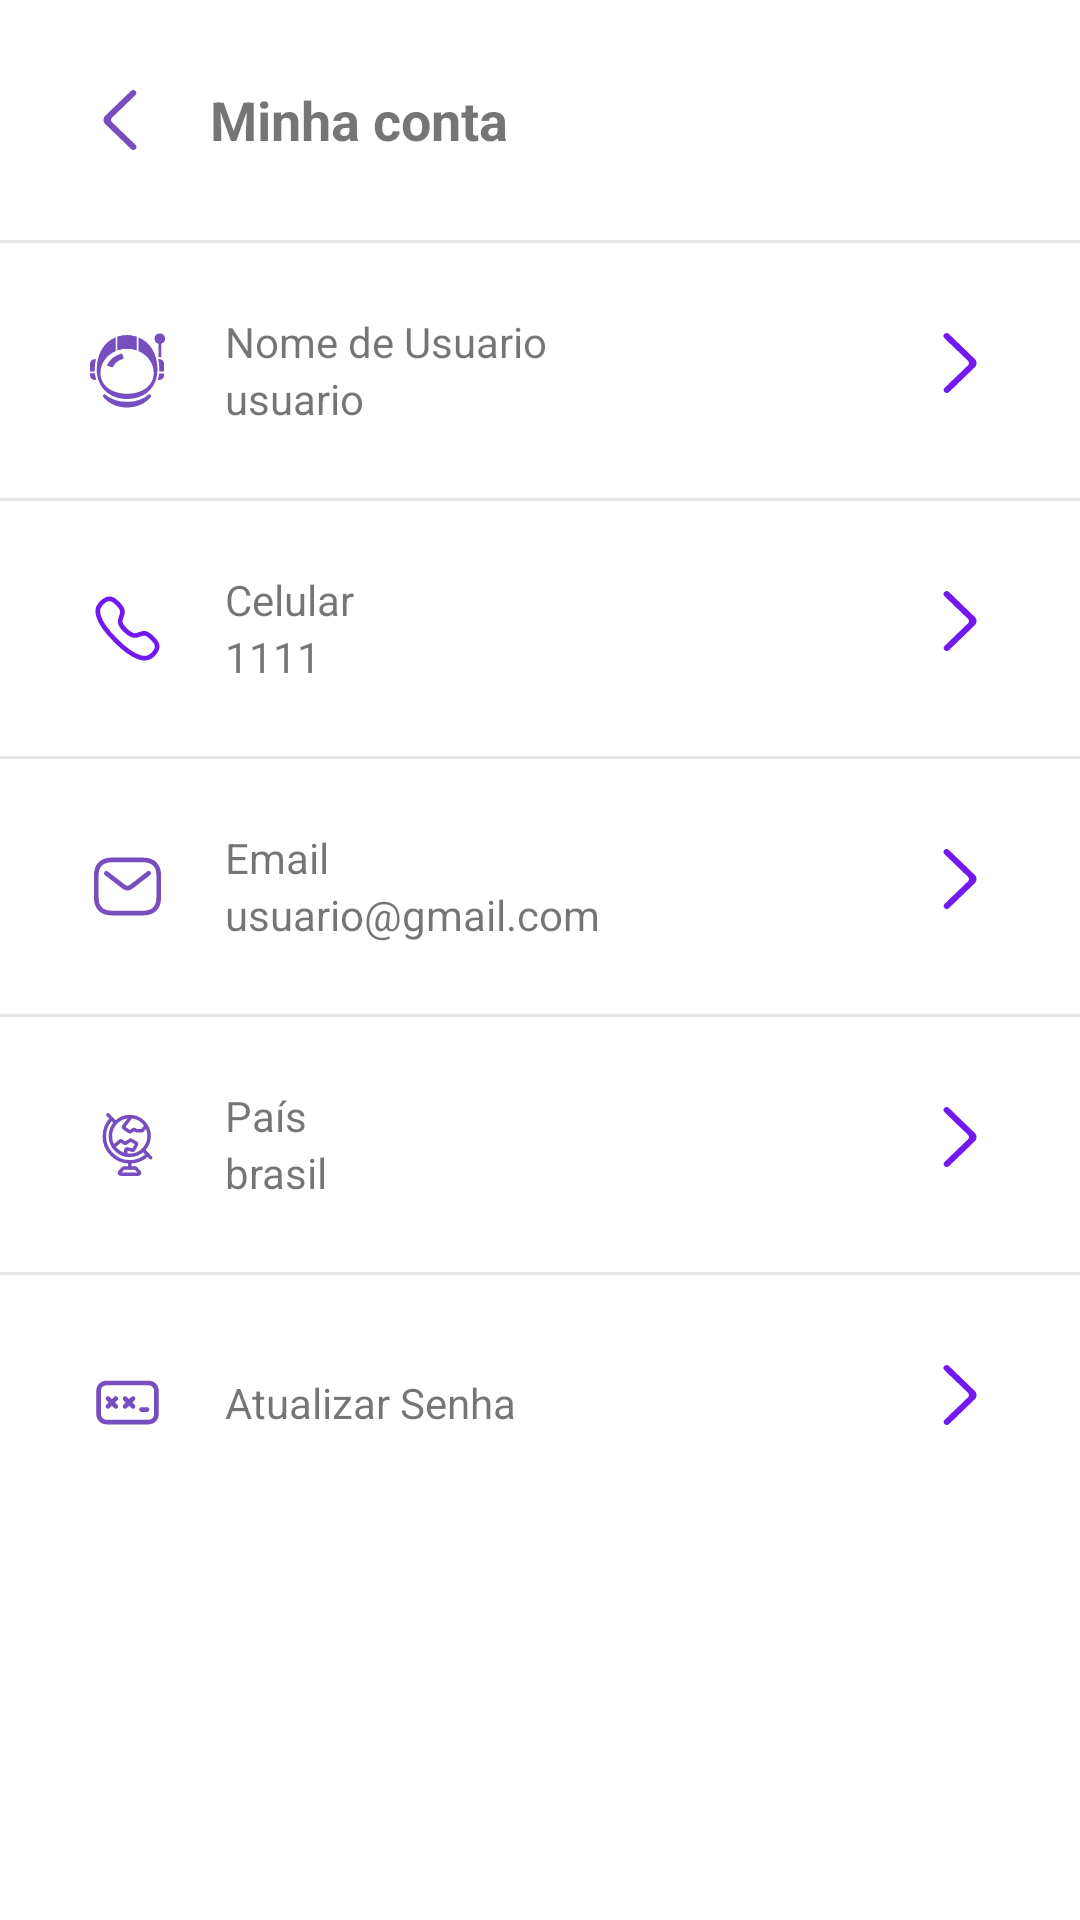

Icon click points for this 1080×1920 phone screenshot, format point (x, y):
arrow right: point (960, 363), point (960, 621), point (960, 879), point (960, 1137), point (960, 1395)
astronauta: point (127, 370)
geo: point (127, 1144)
voltar: point (120, 120)
